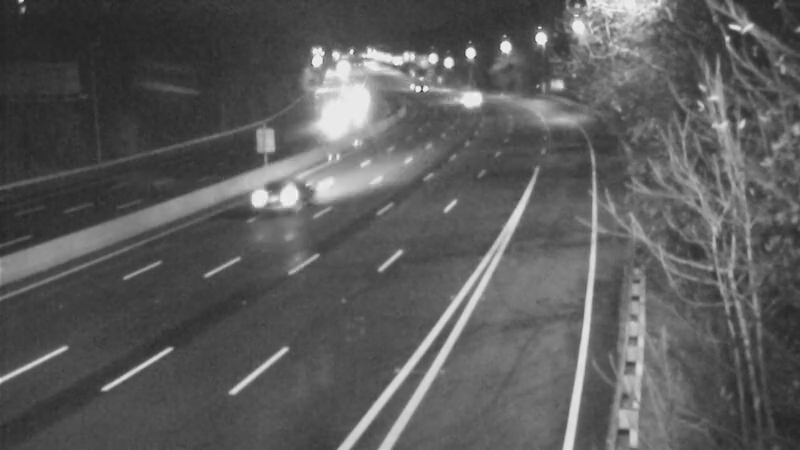vehicle: (224, 157, 304, 237), (392, 58, 442, 108), (442, 73, 492, 123), (304, 93, 354, 143)
